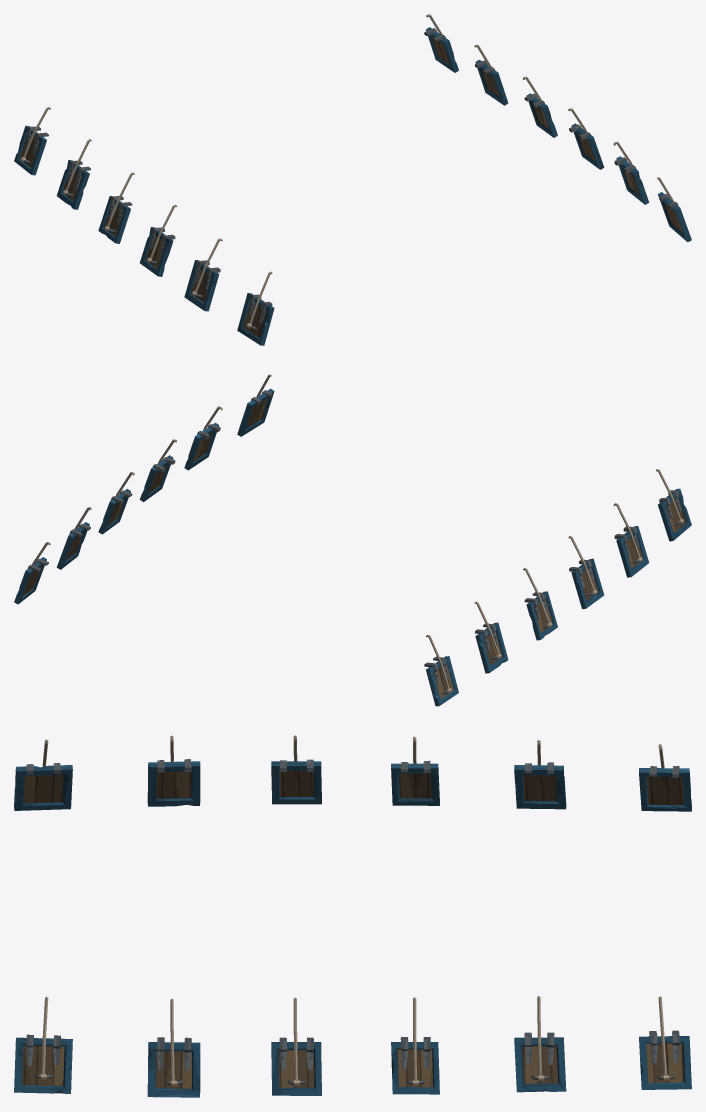
Rendered from SM_Veh_Ship_L_Cannon_Hatch_Closed_01.fbx.
The picture shows the model from 3 angles, top to bottom: view 1: azimuth 30°, elevation 25°; view 2: azimuth 150°, elevation 25°; view 3: azimuth 270°, elevation 25°; orthographic projection. The views are drawn at different scales.
Parts seen in each view (by area): view 1: SM_Veh_Ship_L_Cannon_Hatch_Closed_01; view 2: SM_Veh_Ship_L_Cannon_Hatch_Closed_01; view 3: SM_Veh_Ship_L_Cannon_Hatch_Closed_01.
Boxes of the visible parts, <box> form: SM_Veh_Ship_L_Cannon_Hatch_Closed_01: <box>14,14,691,345</box>; SM_Veh_Ship_L_Cannon_Hatch_Closed_01: <box>14,374,691,706</box>; SM_Veh_Ship_L_Cannon_Hatch_Closed_01: <box>14,735,691,1097</box>.
Size of the model in its own units: 1320 by 175 by 1270.
Materials: 1 (1 with a texture image).
